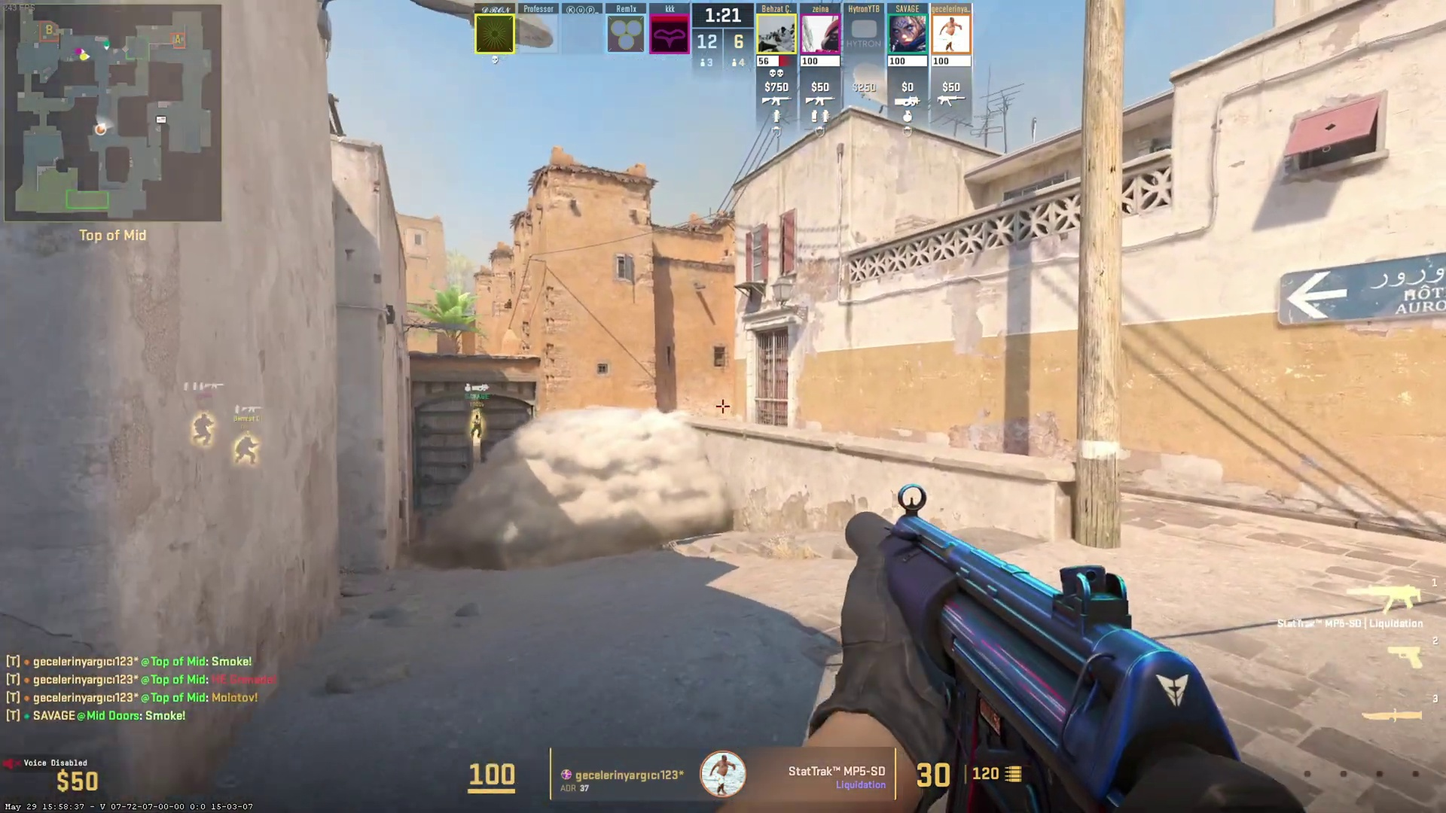Terrorist: (470, 407, 483, 440)
